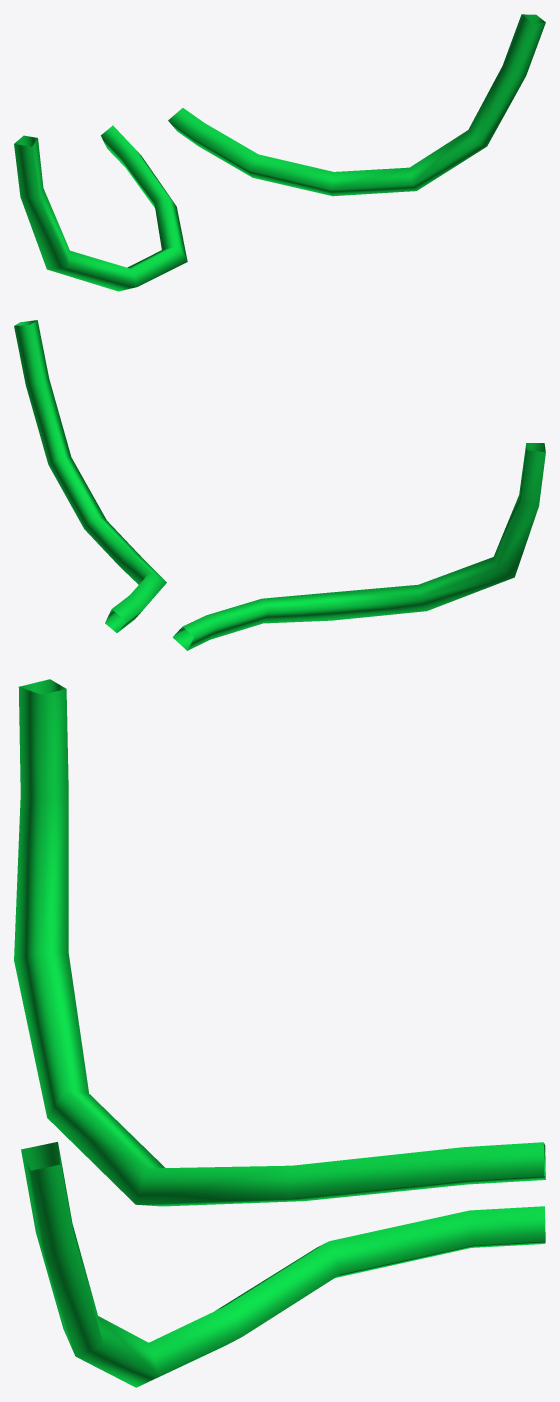
File: Earthmover_Body_WireTubeFront_01a_COL_snaps005.fbx
The picture shows the model from 3 angles, top to bottom: view 1: azimuth 30°, elevation 25°; view 2: azimuth 150°, elevation 25°; view 3: azimuth 270°, elevation 25°; orthographic projection. The views are drawn at different scales.
Parts seen in each view (by area): view 1: Earthmover_Body_WireTubeFront_01a_COL_snaps005; view 2: Earthmover_Body_WireTubeFront_01a_COL_snaps005; view 3: Earthmover_Body_WireTubeFront_01a_COL_snaps005.
Boxes of the visible parts, bbox=[...] form: Earthmover_Body_WireTubeFront_01a_COL_snaps005: bbox=[14, 14, 545, 291]; Earthmover_Body_WireTubeFront_01a_COL_snaps005: bbox=[14, 320, 545, 650]; Earthmover_Body_WireTubeFront_01a_COL_snaps005: bbox=[14, 679, 545, 1387].
Size of the model in its own units: 116 by 40.7 by 53.68.
